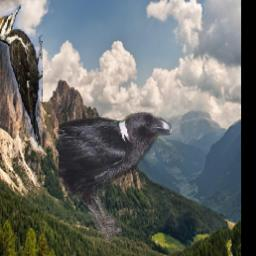Crow: (59, 111, 172, 242)
Woodpecker: (0, 4, 44, 155)
